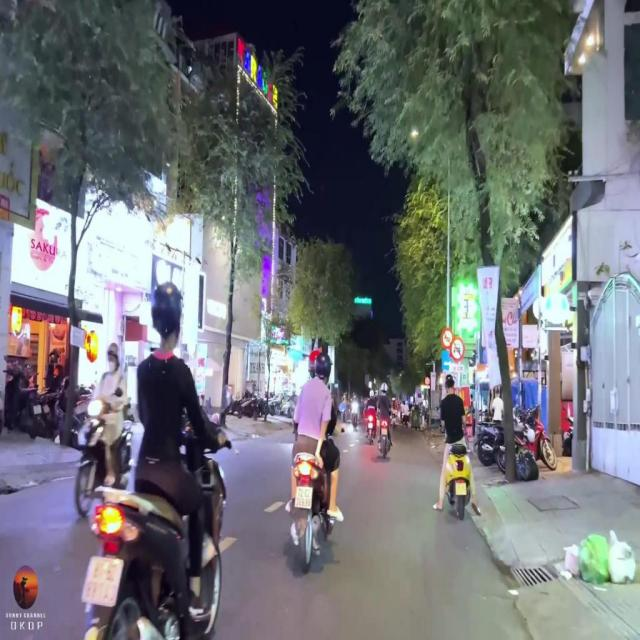cam_o_to: (449, 336, 465, 363), (424, 376, 430, 385)
cam_su_dung_coi: (440, 328, 454, 350)
khac: (449, 364, 464, 374)
